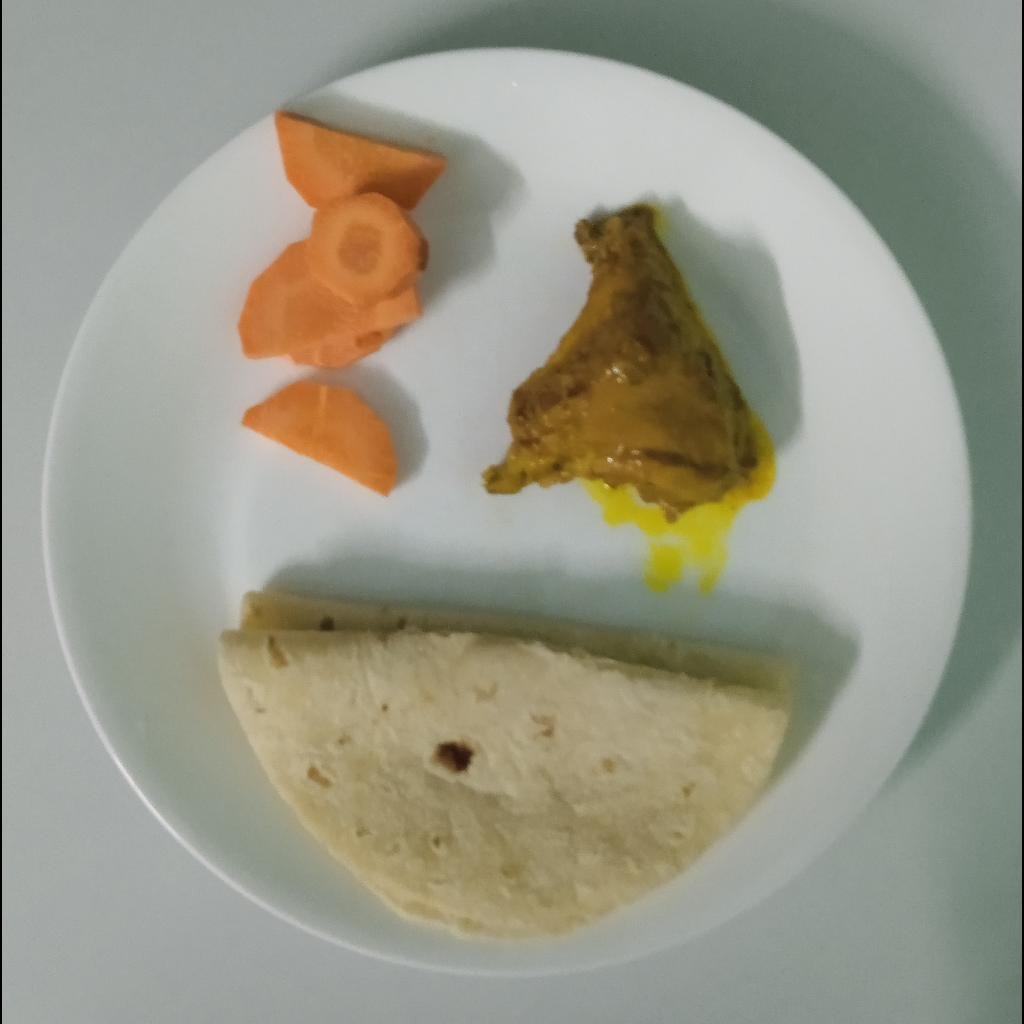carrot: (238, 109, 447, 369), (241, 381, 399, 497)
chicken: (483, 202, 760, 525)
ruti: (215, 592, 799, 939)
